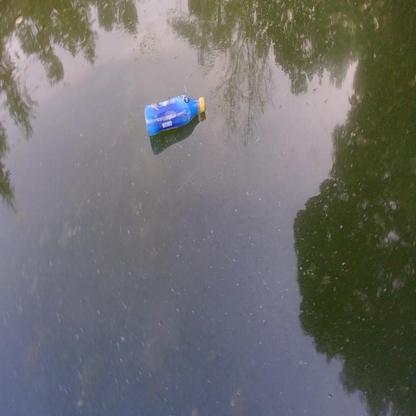plastic bottle: (144, 94, 205, 135)
